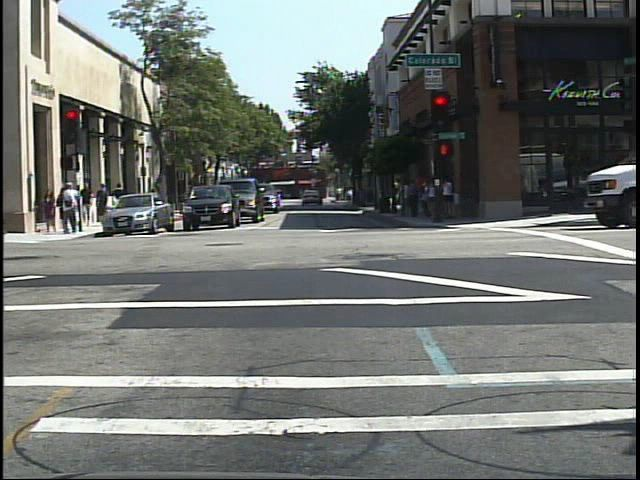person: (58, 181, 81, 240)
